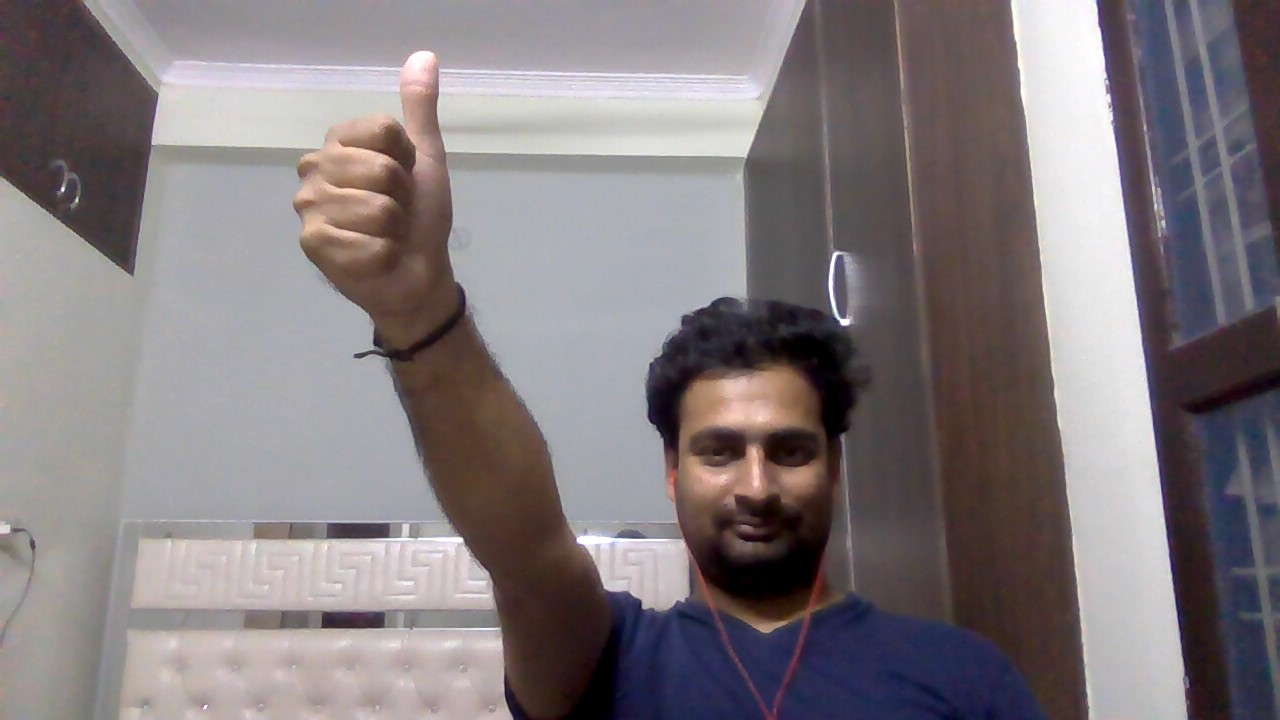Save: (290, 44, 481, 313)
